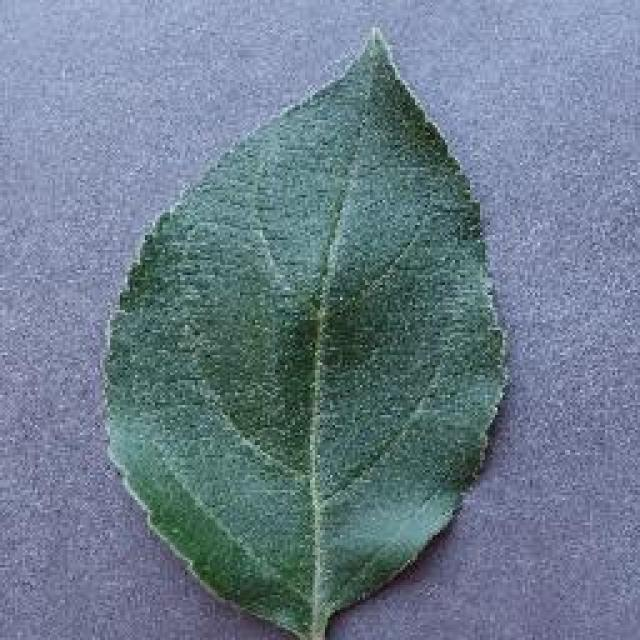apple healthy: (98, 22, 510, 638)
